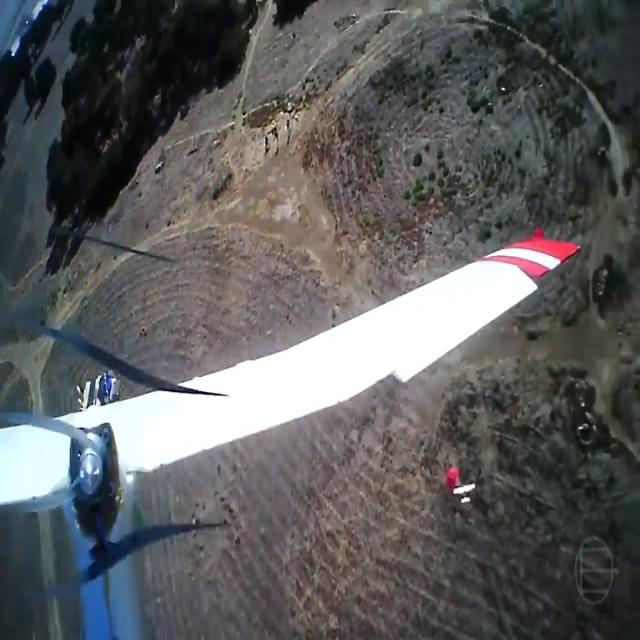iha: (3, 227, 580, 615), (451, 480, 477, 505)
